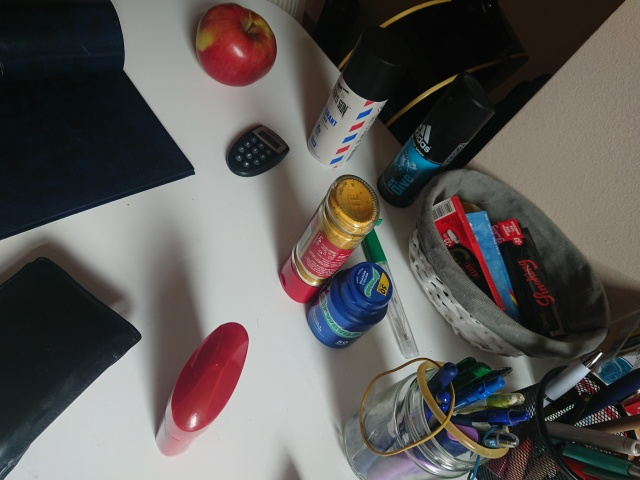Kotanyi Curry Spices Mix 70g: (275, 172, 383, 305)
